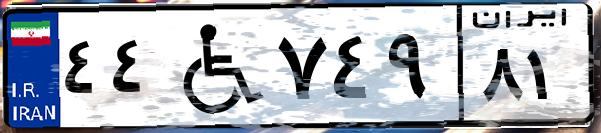1: (525, 38, 570, 115)
4: (330, 28, 385, 110), (57, 26, 110, 100), (110, 28, 158, 98)
7: (270, 28, 330, 110)
8: (475, 38, 525, 113)
9: (385, 28, 445, 110)
ژ (معلولین و جانبازان): (158, 12, 270, 120)
